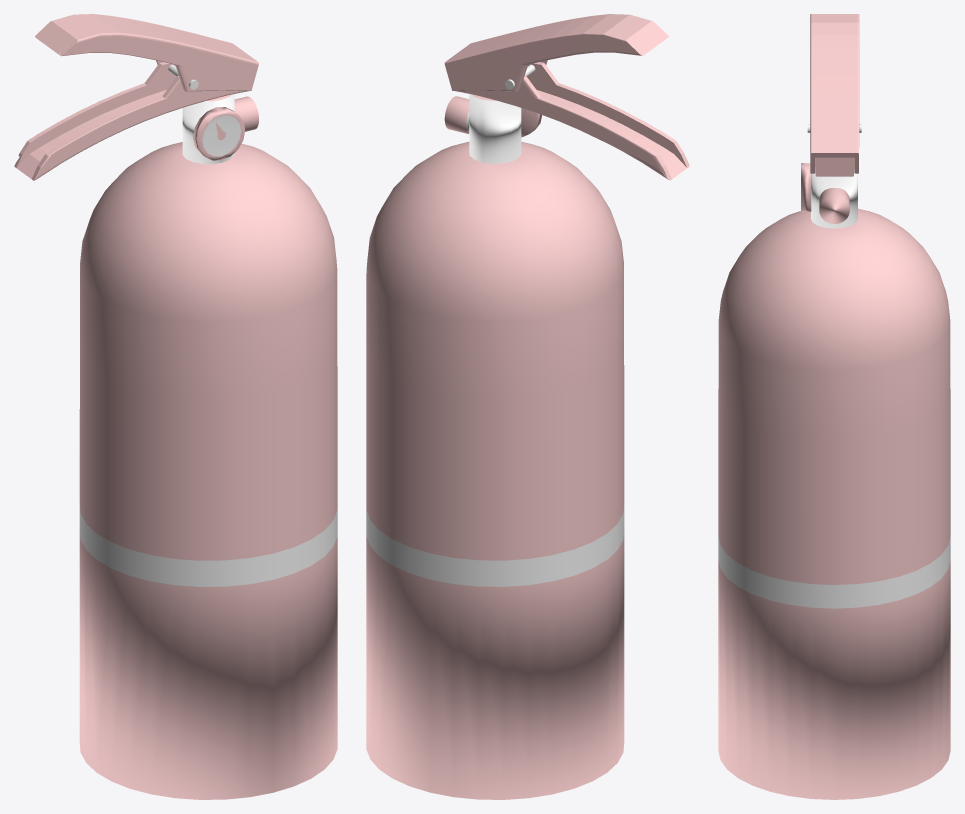
The model's file is shitty.glb.
3 views of the same model, side by side, from view 1: azimuth 30°, elevation 25°; view 2: azimuth 150°, elevation 25°; view 3: azimuth 270°, elevation 25° (orthographic). The views are drawn at different scales.
Visible parts, largest first — view 1: Cube; view 2: Cube; view 3: Cube.
Boxes of the visible parts, x1,y1,x2,y2 form: Cube: [14, 14, 337, 799]; Cube: [366, 14, 689, 799]; Cube: [718, 14, 950, 799].
Size of the model in its own units: 0.7946 by 1.92 by 0.6.
